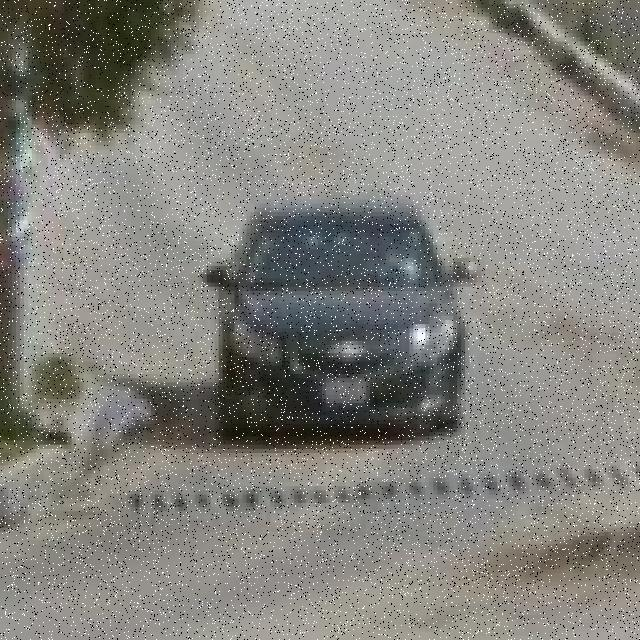cars: (214, 198, 479, 445)
